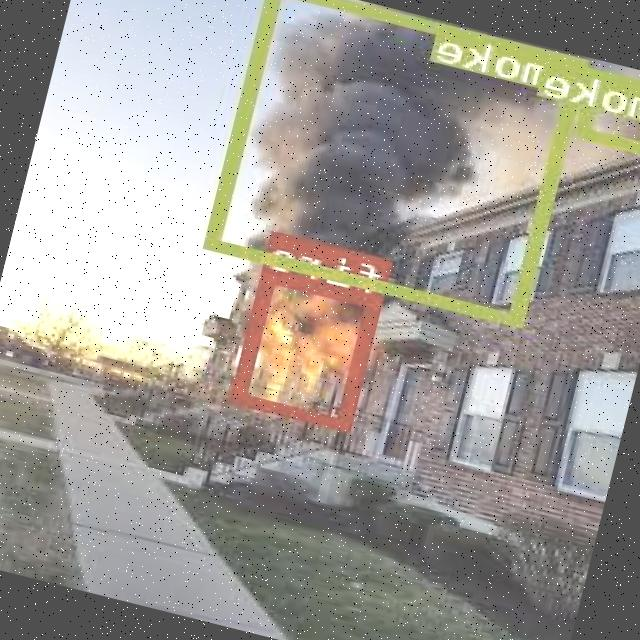fire: (234, 270, 384, 430)
smoke: (208, 0, 591, 325), (579, 68, 640, 160)
